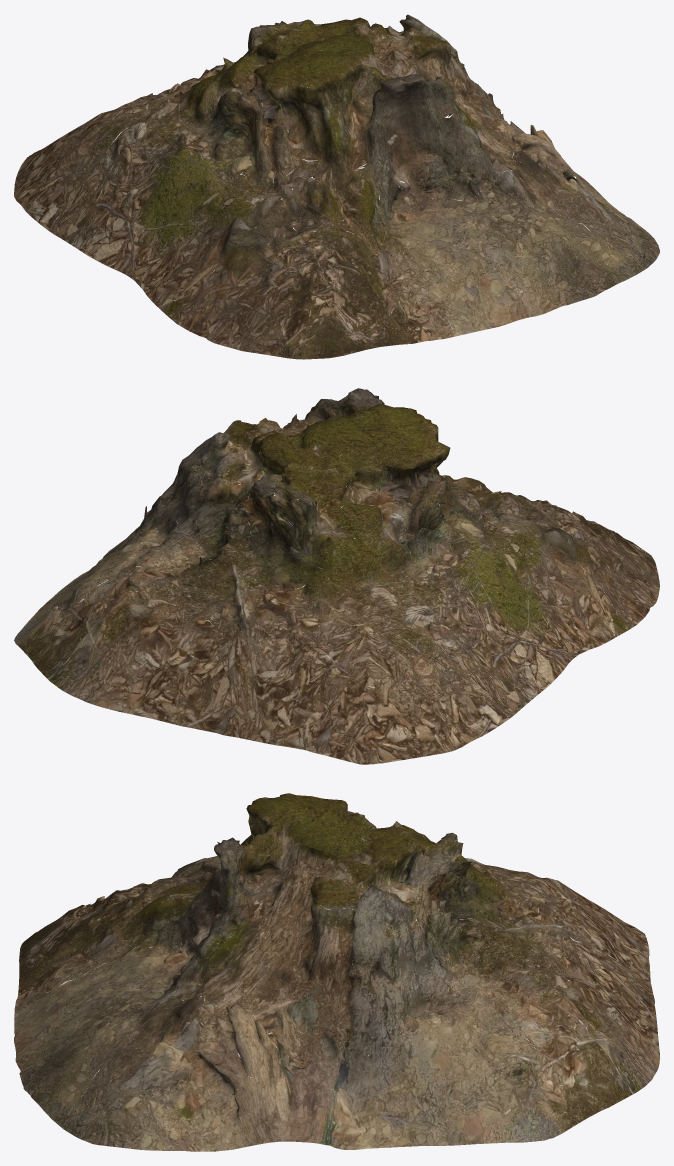
File: tree_stump_1k.glb
The picture shows the model from 3 angles, top to bottom: view 1: azimuth 30°, elevation 25°; view 2: azimuth 150°, elevation 25°; view 3: azimuth 270°, elevation 25°; orthographic projection. The views are drawn at different scales.
Visible parts, largest first — view 1: stump; view 2: stump; view 3: stump.
Part boxes in pixels (x1,y1,x2,y2): stump: (14, 14, 659, 359); stump: (14, 388, 659, 764); stump: (14, 793, 659, 1151).
Bounding box in the file's own units: 1.43 × 0.5723 × 1.59.
1 material, 1 textured.
